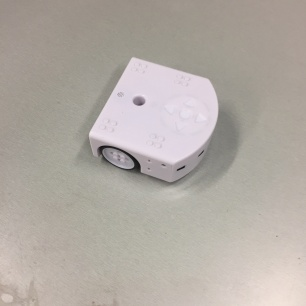thymio: (84, 49, 224, 185)
